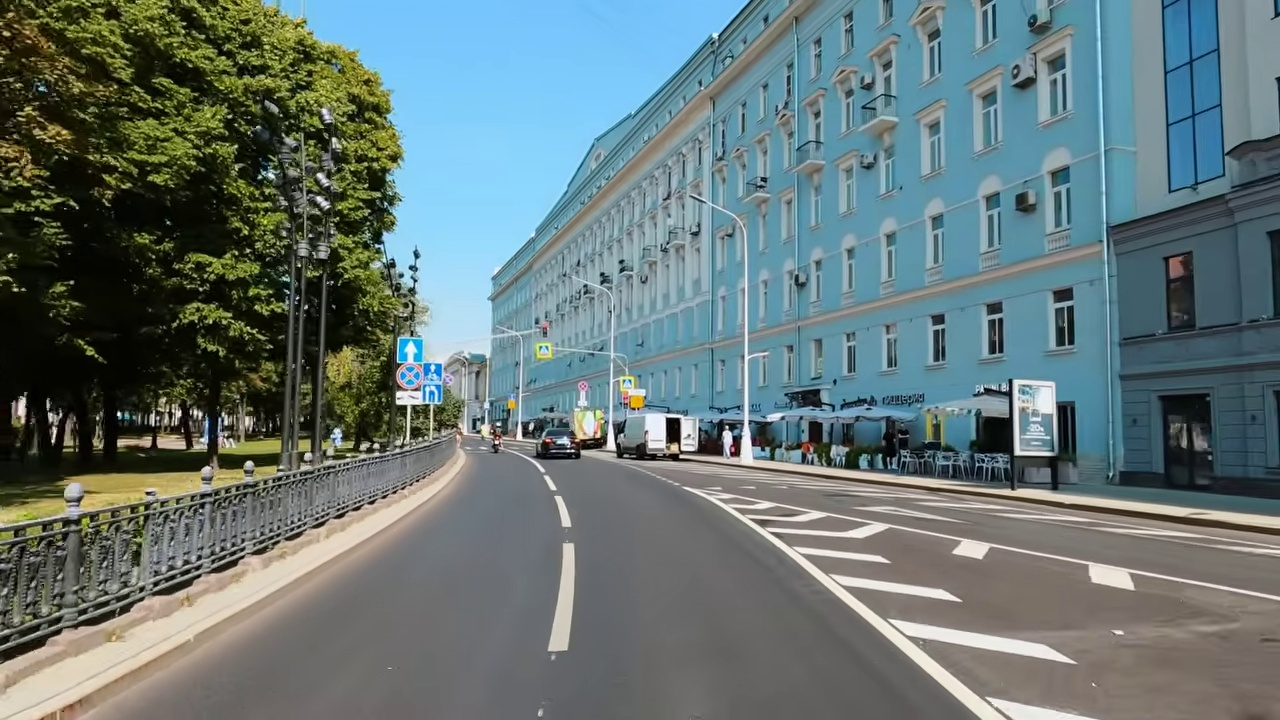apagada: (687, 185, 715, 215)
